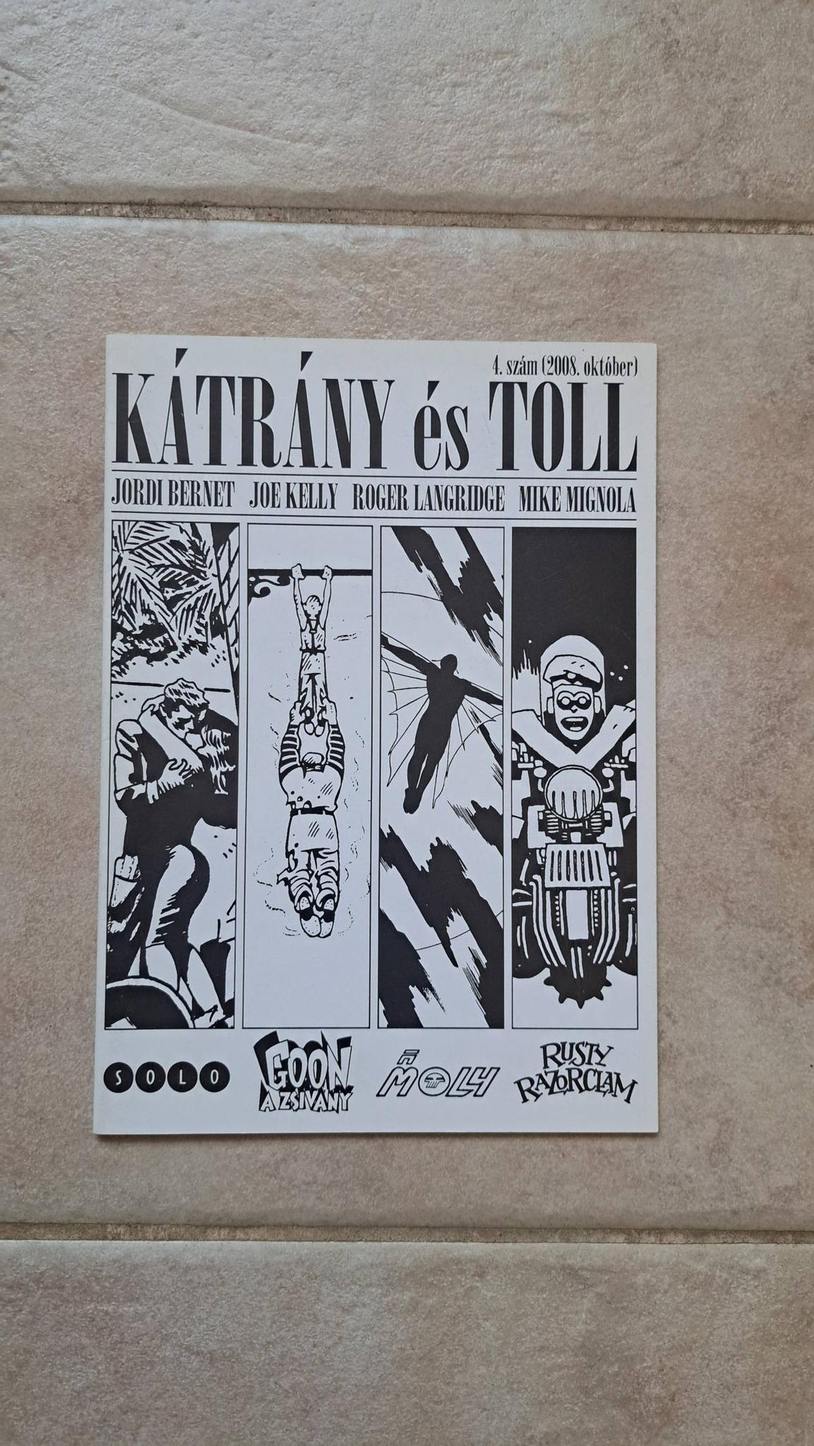comic: (95, 336, 668, 1141)
